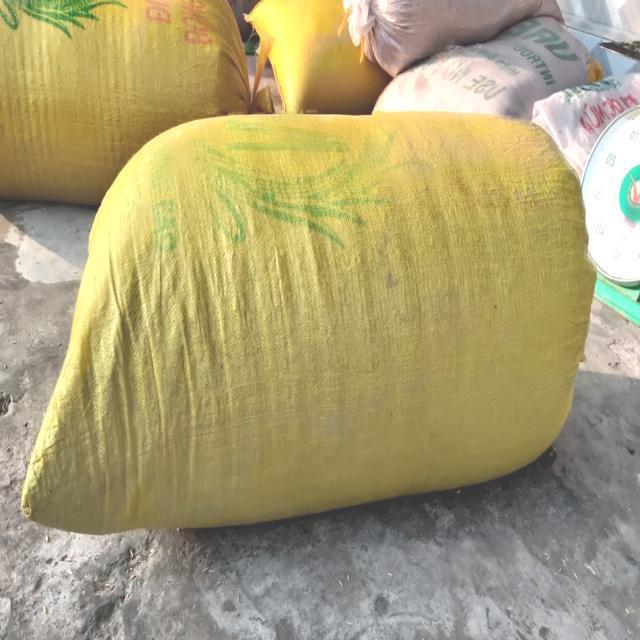gunny_bag: (21, 112, 596, 533)
